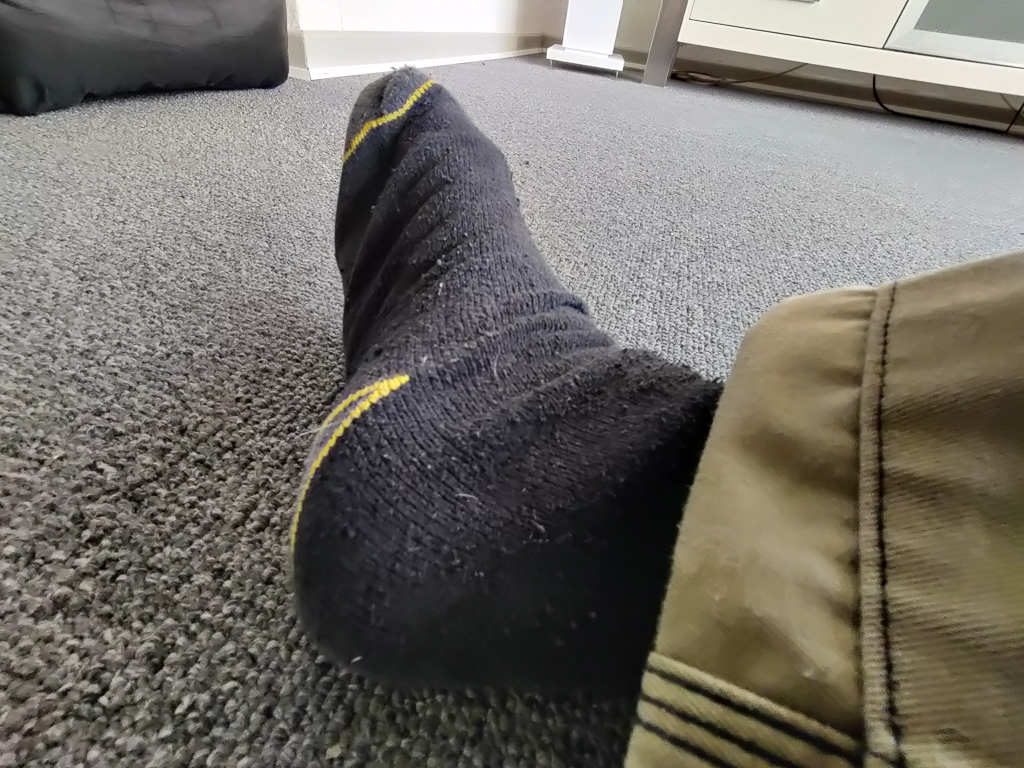Humanoid: (274, 53, 1024, 768)
